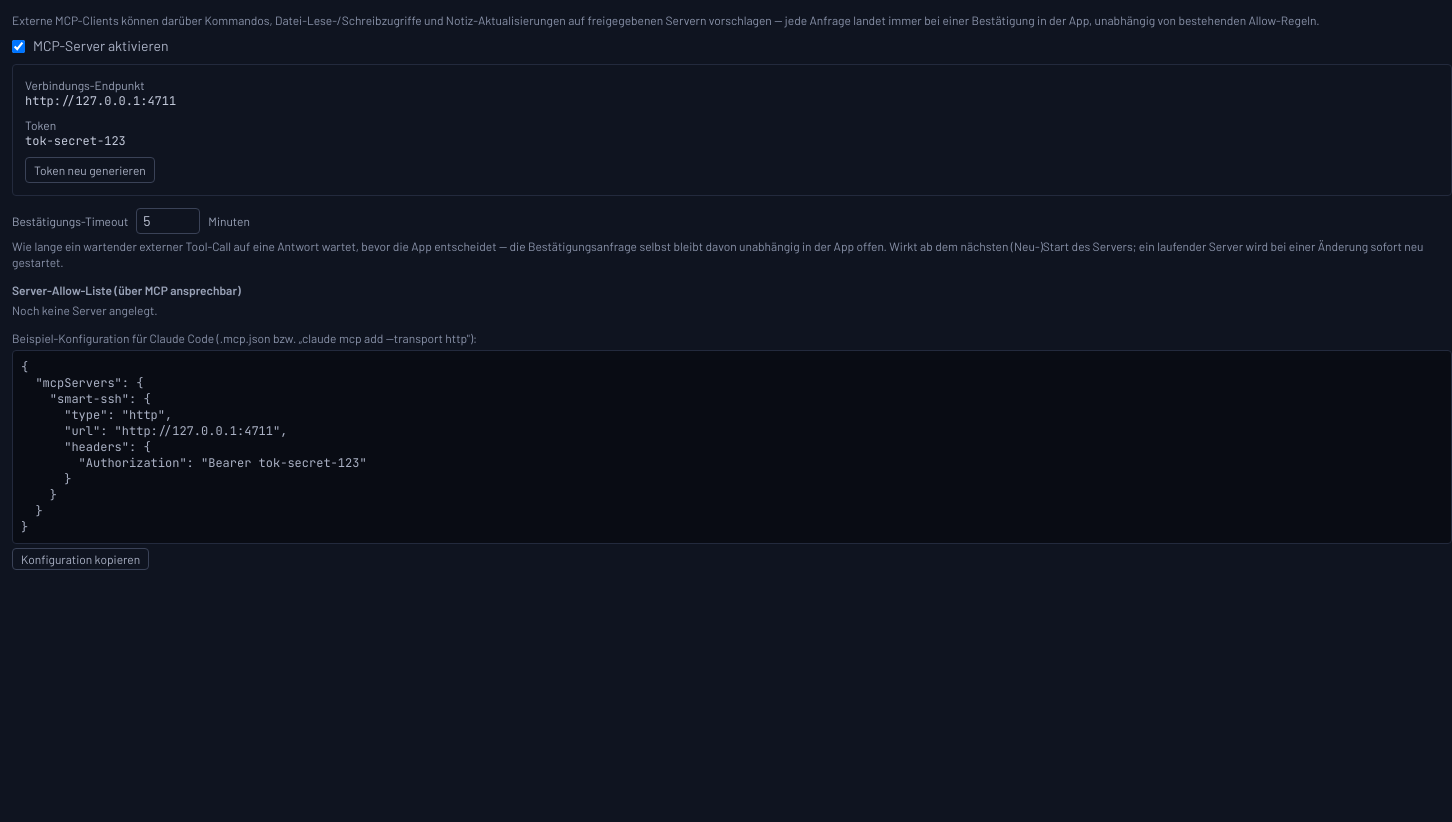
McpServerSettings copy action (issue #184) › copies exactly the displayed snippet and confirms
Click the button "Konfiguration kopieren" at (81, 559), box [12,548,149,570]
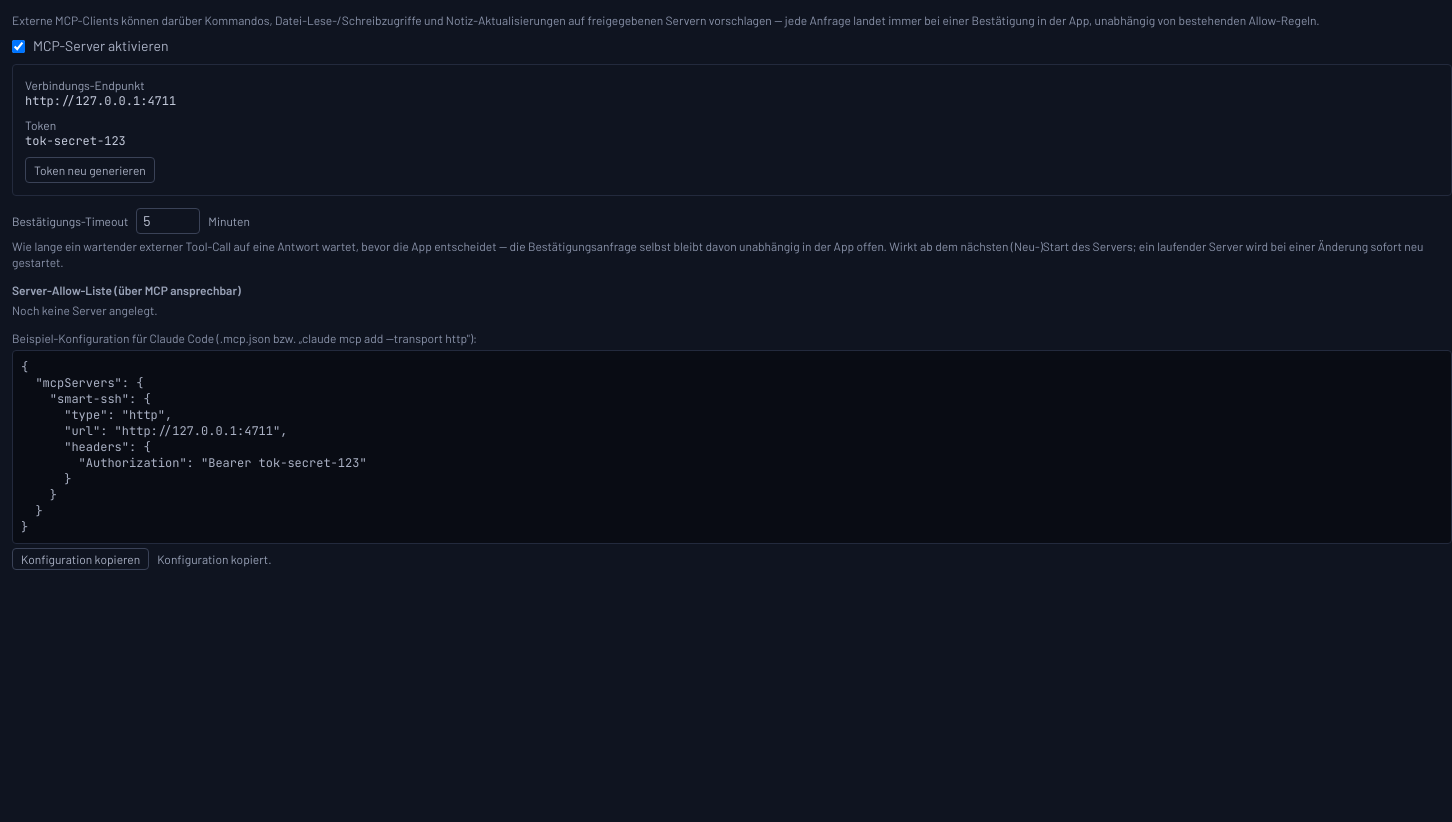
Expected: the text "Bearer tok-secret-123" is shown, [21,359,367,535]
Expected: the text "Konfiguration kopiert." is shown, [157,551,272,567]
